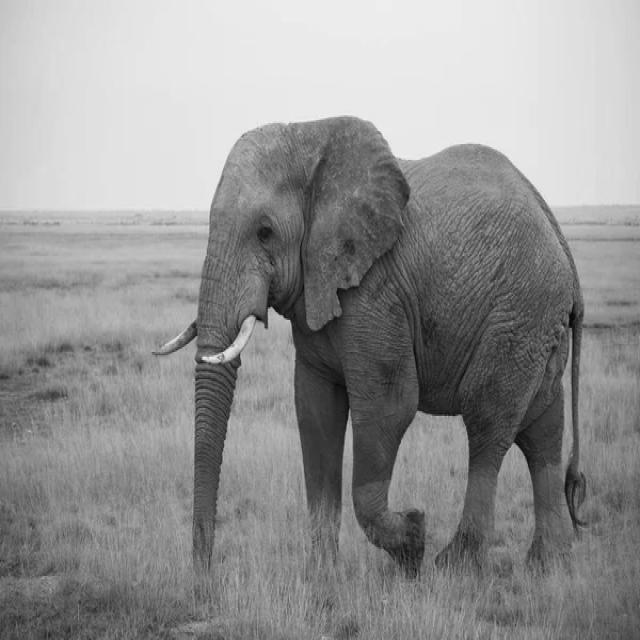Animal: (159, 117, 587, 572)
